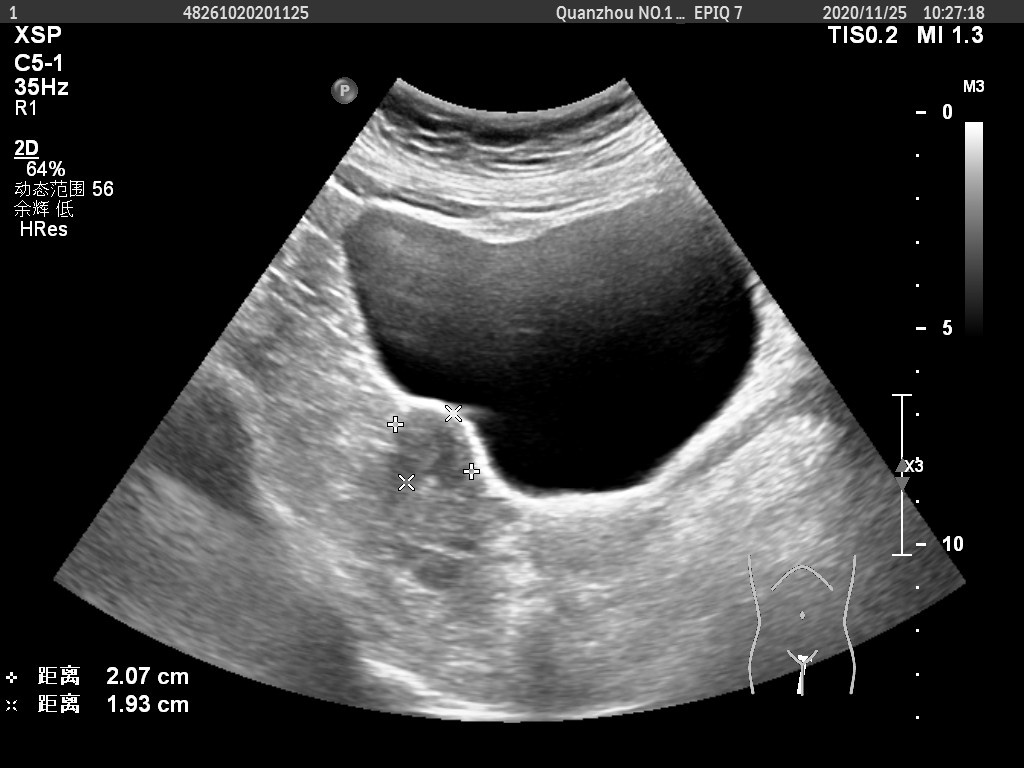肌瘤: (388, 409, 472, 488)
